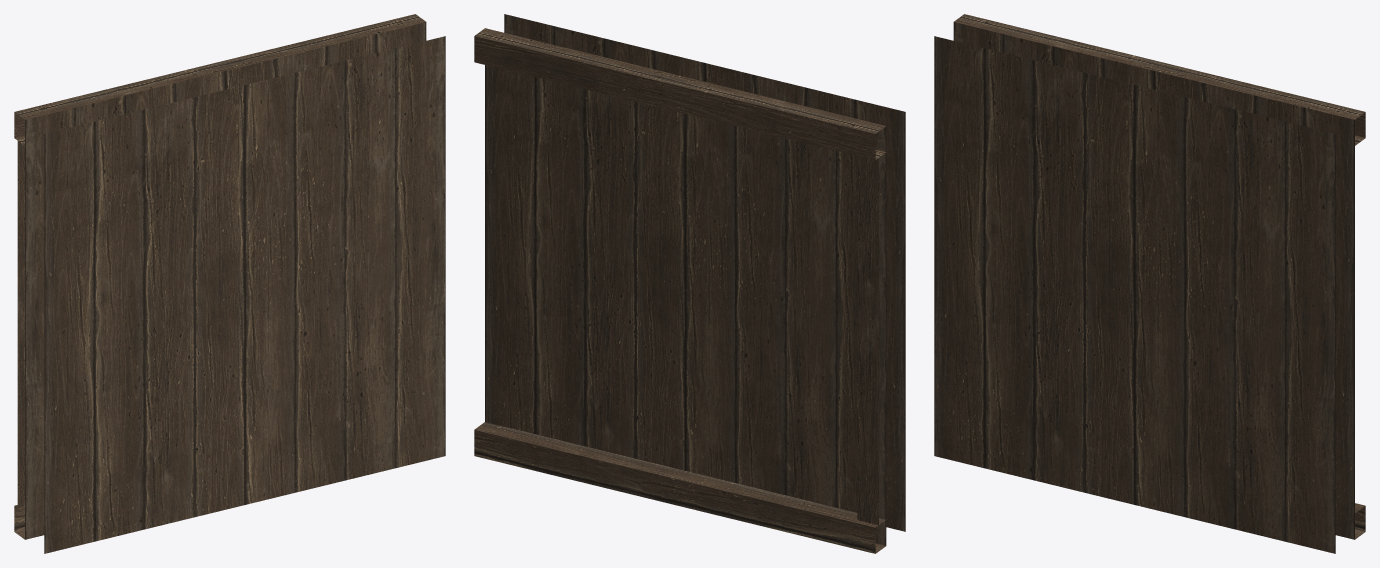
The model's file is ARC1010333.fbx.
3 views of the same model, side by side, from view 1: azimuth 30°, elevation 25°; view 2: azimuth 150°, elevation 25°; view 3: azimuth 330°, elevation 25° (orthographic).
Visible parts, largest first — view 1: smARC1010333; view 2: smARC1010333; view 3: smARC1010333.
Part boxes in pixels (x1=…): smARC1010333: x1=14, y1=14, x2=445, y2=553; smARC1010333: x1=474, y1=14, x2=905, y2=553; smARC1010333: x1=934, y1=14, x2=1365, y2=553.
Bounding box in the file's own units: 268 × 268 × 34.9.
1 material, 1 textured.
